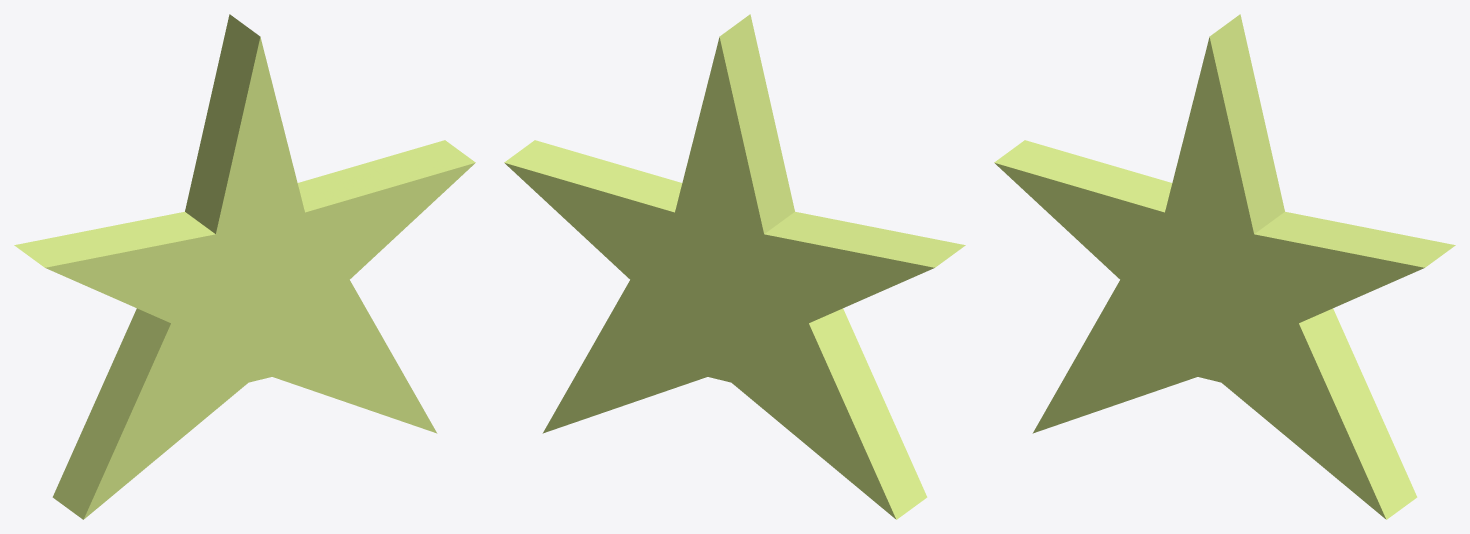
File: Star.FBX
The picture shows the model from 3 angles, left to right: view 1: azimuth 30°, elevation 25°; view 2: azimuth 150°, elevation 25°; view 3: azimuth 330°, elevation 25°; orthographic projection.
Visible parts, largest first — view 1: Box01; view 2: Box01; view 3: Box01.
Boxes of the visible parts, x1=… form: Box01: x1=14, y1=14, x2=475, y2=519; Box01: x1=504, y1=14, x2=965, y2=519; Box01: x1=994, y1=14, x2=1455, y2=519.
Bounding box in the file's own units: 14.94 × 1.86 × 14.58.
